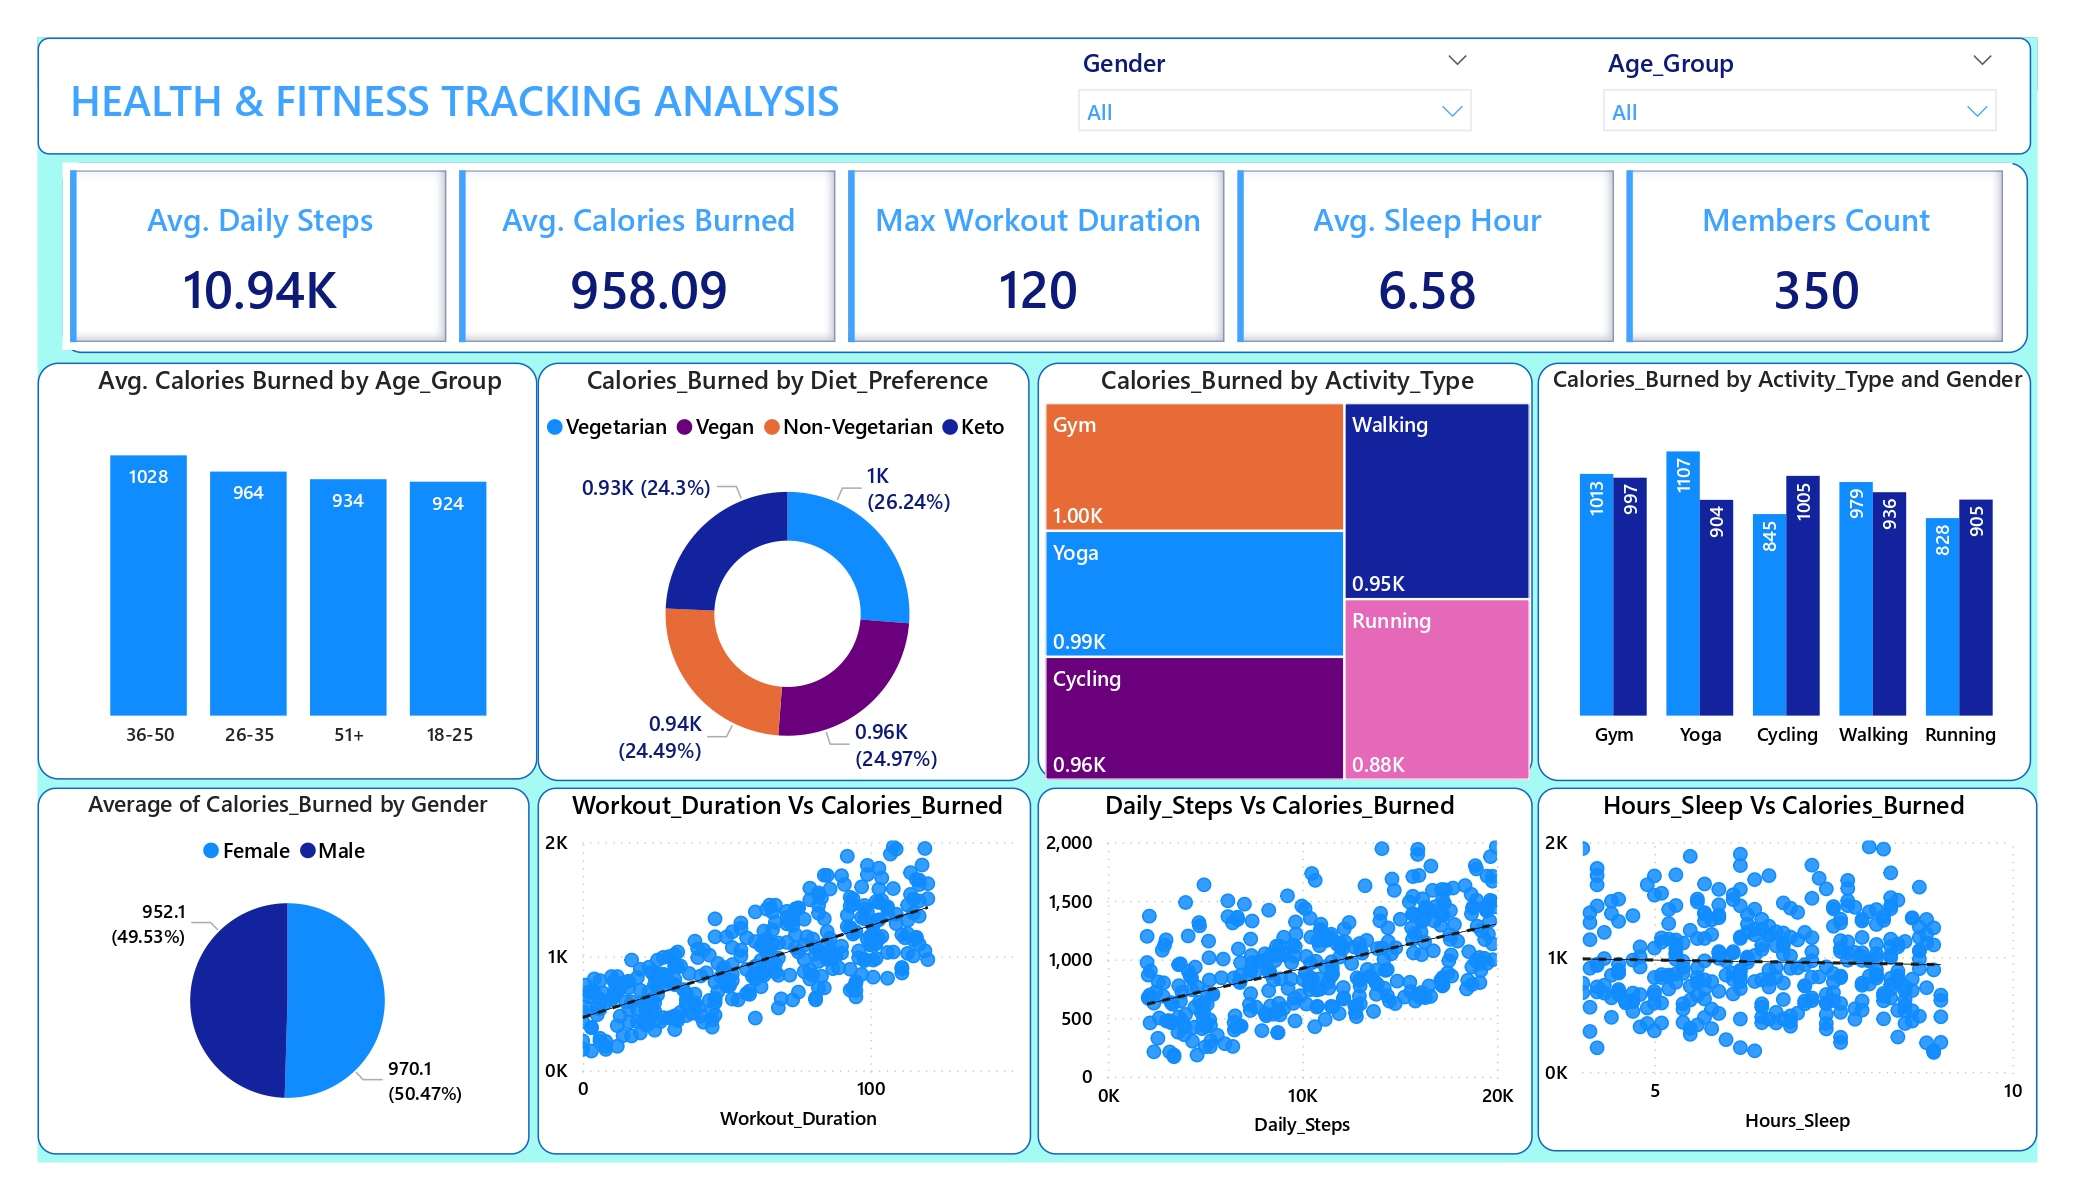

This screenshot's page, from the dashboard's own definition file:
{"tool":"powerbi","page":{"name":"Page 1","canvas":[1280,720],"ordinal":0},"visuals":[{"type":"shape","box":[0,208,320,267],"z":0},{"type":"shape","box":[320,208,315,268],"z":1000},{"type":"shape","box":[960,208,316,268],"z":2000},{"type":"shape","box":[640,208,317,267],"z":3000},{"type":"shape","box":[0,480,315,235],"z":4000},{"type":"shape","box":[320,480,316,235],"z":5000},{"type":"shape","box":[640,480,317,235],"z":6000},{"type":"shape","box":[960,480,320,233],"z":7000},{"type":"columnChart","fields":{"Category":["fitness_health_tracking.Age_Group"],"Y":["Measure Table.Avg. Calories Burned"]},"box":[16,208,304,256],"z":8000},{"type":"donutChart","title":"Calories_Burned by Diet_Preference","fields":{"Category":["fitness_health_tracking.Diet_Preference"],"Y":["Avg(fitness_health_tracking.Calories_Burned)"]},"box":[320,208,320,272],"z":9000},{"type":"treemap","title":"Calories_Burned by Activity_Type","fields":{"Values":["Avg(fitness_health_tracking.Calories_Burned)"],"Group":["fitness_health_tracking.Activity_Type"]},"box":[640,208,320,272],"z":10000},{"type":"clusteredColumnChart","title":"Calories_Burned by Activity_Type and Gender","fields":{"Category":["fitness_health_tracking.Activity_Type"],"Y":["Avg(fitness_health_tracking.Calories_Burned)"],"Series":["fitness_health_tracking.Gender"]},"box":[960,208,320,256],"z":11000},{"type":"shape","box":[0,0,1276,75],"z":11500},{"type":"pieChart","fields":{"Y":["Avg(fitness_health_tracking.Calories_Burned)"],"Category":["fitness_health_tracking.Gender"]},"box":[16,480,288,224],"z":12000},{"type":"scatterChart","title":"Workout_Duration Vs Calories_Burned","fields":{"X":["fitness_health_tracking.Workout_Duration"],"Y":["fitness_health_tracking.Calories_Burned"]},"box":[320,480,320,224],"z":13000},{"type":"scatterChart","title":"Daily_Steps Vs Calories_Burned","fields":{"Y":["fitness_health_tracking.Calories_Burned"],"X":["fitness_health_tracking.Daily_Steps"]},"box":[640,480,310,228],"z":15000},{"type":"scatterChart","title":"Hours_Sleep Vs Calories_Burned","fields":{"Y":["fitness_health_tracking.Calories_Burned"],"X":["fitness_health_tracking.Hours_Sleep"]},"box":[960,480,315,225],"z":16000},{"type":"textbox","box":[16,16,528,48],"z":17000},{"type":"slicer","fields":{"Values":["fitness_health_tracking.Gender"]},"box":[656,0,272,80],"z":18000},{"type":"shape","box":[16,80,1258,122],"z":18250},{"type":"cardVisual","fields":{"Data":["Measure Table.Avg. Daily Steps","Measure Table.Avg. Calories Burned","Measure Table.Max Workout Duration","Measure Table.Avg Sleep Hour","Measure Table.Members Count"]},"box":[16,80,1248,120],"z":18500},{"type":"slicer","fields":{"Values":["fitness_health_tracking.Age_Group"]},"box":[992,0,272,80],"z":19000}]}

Visuals, with their boxes in screenshot pixels (x1, y1, x2, y2):
shape: locate(38, 362, 538, 780)
shape: locate(538, 362, 1030, 781)
shape: locate(1538, 362, 2031, 781)
shape: locate(1038, 362, 1533, 780)
shape: locate(38, 788, 530, 1155)
shape: locate(538, 788, 1031, 1155)
shape: locate(1038, 788, 1533, 1155)
shape: locate(1538, 788, 2038, 1152)
columnChart - fitness_health_tracking.Age_Group x Measure Table.Avg. Calories Burned: locate(62, 362, 538, 762)
"Calories_Burned by Diet_Preference" donutChart: locate(538, 362, 1038, 788)
"Calories_Burned by Activity_Type" treemap: locate(1038, 362, 1538, 788)
"Calories_Burned by Activity_Type and Gender" clusteredColumnChart: locate(1538, 362, 2038, 762)
shape: locate(38, 38, 2031, 155)
pieChart - Avg(fitness_health_tracking.Calories_Burned) x fitness_health_tracking.Gender: locate(62, 788, 512, 1138)
"Workout_Duration Vs Calories_Burned" scatterChart: locate(538, 788, 1038, 1138)
"Daily_Steps Vs Calories_Burned" scatterChart: locate(1038, 788, 1522, 1144)
"Hours_Sleep Vs Calories_Burned" scatterChart: locate(1538, 788, 2030, 1139)
textbox: locate(62, 62, 888, 138)
slicer - fitness_health_tracking.Gender: locate(1062, 38, 1488, 162)
shape: locate(62, 162, 2028, 353)
cardVisual - Measure Table.Avg. Daily Steps x Measure Table.Avg. Calories Burned: locate(62, 162, 2012, 350)
slicer - fitness_health_tracking.Age_Group: locate(1588, 38, 2012, 162)
